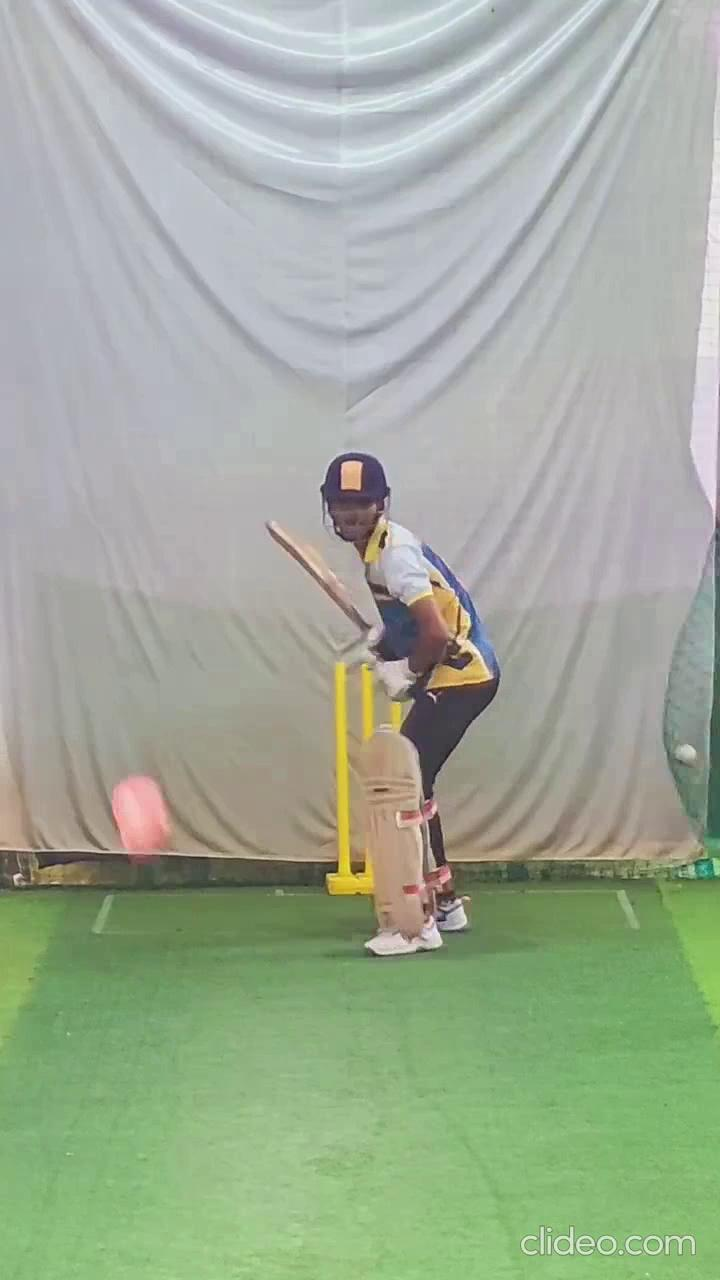bat: (257, 509, 377, 633)
